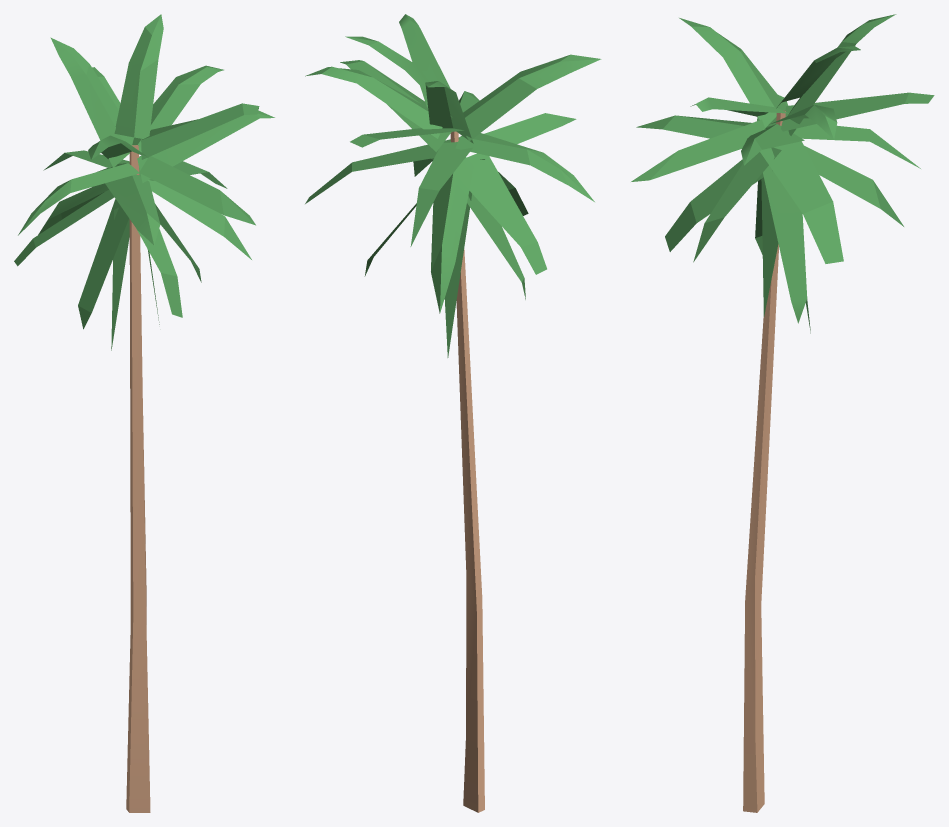
Rendered from tree_palm_coco_F_LOD2.fbx.
3 views of the same model, side by side, from view 1: azimuth 30°, elevation 25°; view 2: azimuth 150°, elevation 25°; view 3: azimuth 270°, elevation 25° (orthographic). The views are drawn at different scales.
Visible parts, largest first — view 1: trunk_coco_F, leaf_cocotree_F_3, leaf_cocotree_F_2, leaf_cocotree_F_13, leaf_cocotree_F_20, leaf_cocotree_F_4, leaf_cocotree_F_17, leaf_cocotree_F_8, leaf_cocotree_F_9, leaf_cocotree_F_14, leaf_cocotree_F_10, leaf_cocotree_F_19 (+5 smaller); view 2: trunk_coco_F, leaf_cocotree_F_18, leaf_cocotree_F_7, leaf_cocotree_F_15, leaf_cocotree_F_10, leaf_cocotree_F_8, leaf_cocotree_F_11, leaf_cocotree_F_2, leaf_cocotree_F_4, leaf_cocotree_F_12, leaf_cocotree_F_17, leaf_cocotree_F_20 (+4 smaller); view 3: trunk_coco_F, leaf_cocotree_F_12, leaf_cocotree_F_16, leaf_cocotree_F_7, leaf_cocotree_F_13, leaf_cocotree_F_18, leaf_cocotree_F_14, leaf_cocotree_F_6, leaf_cocotree_F_19, leaf_cocotree_F_2, leaf_cocotree_F_17, leaf_cocotree_F_22 (+5 smaller).
Boxes of the visible parts, left/top/right/bottom form: trunk_coco_F: left=126, top=145, right=150, bottom=812; leaf_cocotree_F_3: left=114, top=14, right=163, bottom=138; leaf_cocotree_F_2: left=50, top=37, right=135, bottom=167; leaf_cocotree_F_13: left=139, top=156, right=255, bottom=225; leaf_cocotree_F_20: left=78, top=199, right=128, bottom=329; leaf_cocotree_F_4: left=141, top=103, right=259, bottom=159; leaf_cocotree_F_17: left=105, top=174, right=160, bottom=245; leaf_cocotree_F_8: left=132, top=65, right=223, bottom=147; leaf_cocotree_F_9: left=137, top=110, right=274, bottom=182; leaf_cocotree_F_14: left=148, top=180, right=251, bottom=259; leaf_cocotree_F_10: left=18, top=163, right=139, bottom=235; leaf_cocotree_F_19: left=137, top=229, right=182, bottom=317; trunk_coco_F: left=450, top=131, right=484, bottom=812; leaf_cocotree_F_18: left=431, top=157, right=473, bottom=313; leaf_cocotree_F_7: left=463, top=54, right=601, bottom=141; leaf_cocotree_F_15: left=466, top=153, right=546, bottom=274; leaf_cocotree_F_10: left=455, top=133, right=594, bottom=201; leaf_cocotree_F_8: left=305, top=66, right=442, bottom=138; leaf_cocotree_F_11: left=410, top=142, right=472, bottom=246; leaf_cocotree_F_2: left=425, top=81, right=473, bottom=143; leaf_cocotree_F_4: left=399, top=14, right=450, bottom=107; leaf_cocotree_F_12: left=305, top=137, right=459, bottom=203; leaf_cocotree_F_17: left=483, top=113, right=576, bottom=156; leaf_cocotree_F_20: left=467, top=194, right=525, bottom=299; trunk_coco_F: left=743, top=110, right=785, bottom=812; leaf_cocotree_F_12: left=760, top=141, right=843, bottom=263; leaf_cocotree_F_16: left=763, top=165, right=807, bottom=323; leaf_cocotree_F_7: left=679, top=18, right=786, bottom=127; leaf_cocotree_F_13: left=631, top=119, right=765, bottom=181; leaf_cocotree_F_18: left=804, top=145, right=903, bottom=226; leaf_cocotree_F_14: left=693, top=147, right=781, bottom=262; leaf_cocotree_F_6: left=781, top=92, right=934, bottom=131; leaf_cocotree_F_19: left=665, top=159, right=772, bottom=251; leaf_cocotree_F_2: left=787, top=14, right=896, bottom=135; leaf_cocotree_F_17: left=636, top=115, right=771, bottom=138; leaf_cocotree_F_22: left=761, top=177, right=778, bottom=316.
Bounding box in the file's own units: 424 × 1205 × 418.
